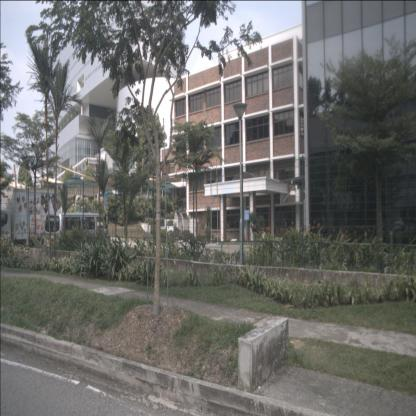vehicle-car: (44, 212, 111, 254)
vehicle-truck: (0, 188, 62, 251)
